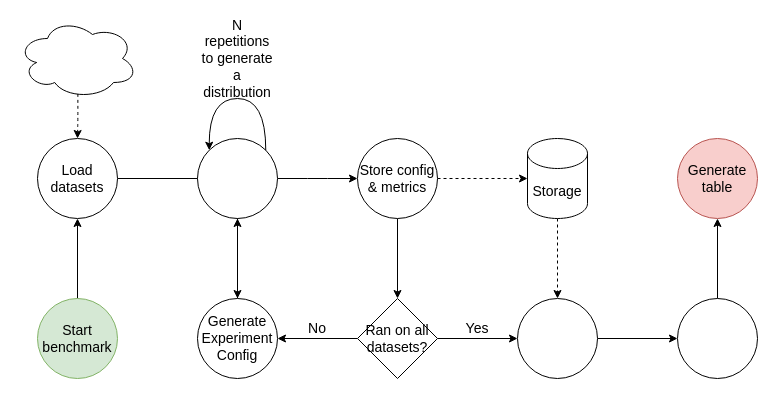
The diagram is 775 pixels wide and 396 high, and some of its shapes have lost their labels. Here are the shapes that lost their labels. From the top down, the box of each, then its label:
(16, 18, 138, 98): Cloud storage
(196, 138, 278, 218): Execute config
(516, 298, 598, 378): Load all benchmarks
(676, 298, 758, 378): Calculate score
